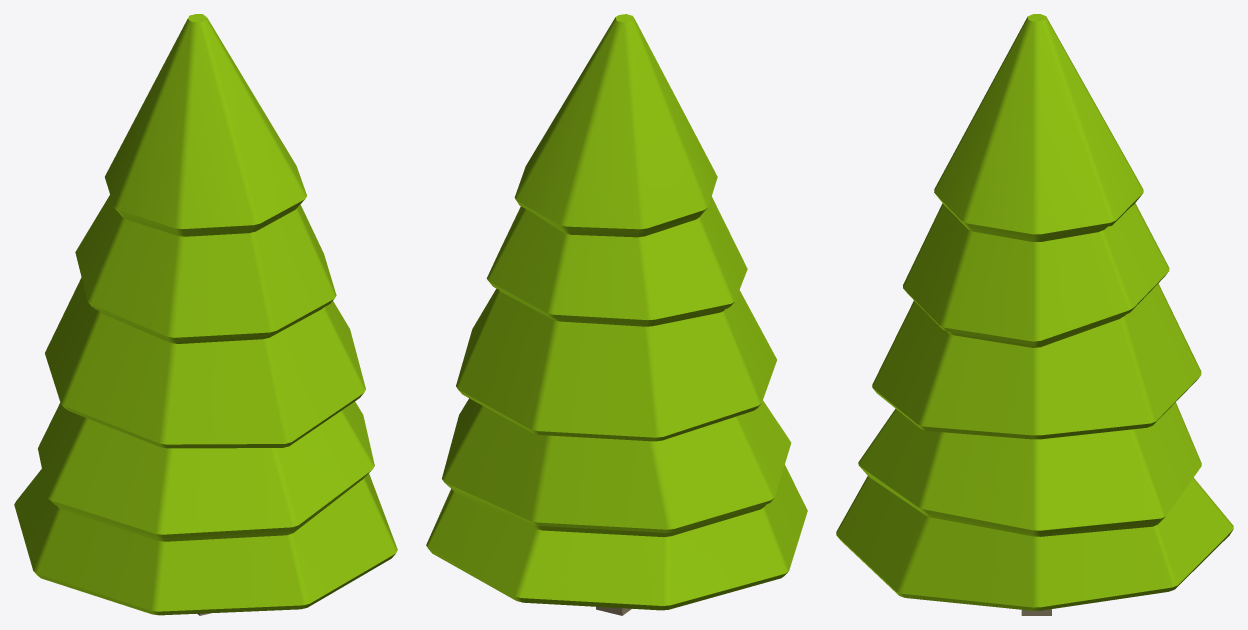
File: pine_skewed_3_bevel.fbx
The picture shows the model from 3 angles, left to right: view 1: azimuth 30°, elevation 25°; view 2: azimuth 150°, elevation 25°; view 3: azimuth 270°, elevation 25°; orthographic projection.
Parts seen in each view (by area): view 1: pine_skewed_3_bevel; view 2: pine_skewed_3_bevel; view 3: pine_skewed_3_bevel.
Part boxes in pixels (<box>): pine_skewed_3_bevel: <box>14,14,397,615</box>; pine_skewed_3_bevel: <box>426,14,807,615</box>; pine_skewed_3_bevel: <box>836,14,1233,615</box>.
Size of the model in its own units: 152 by 258 by 158.
